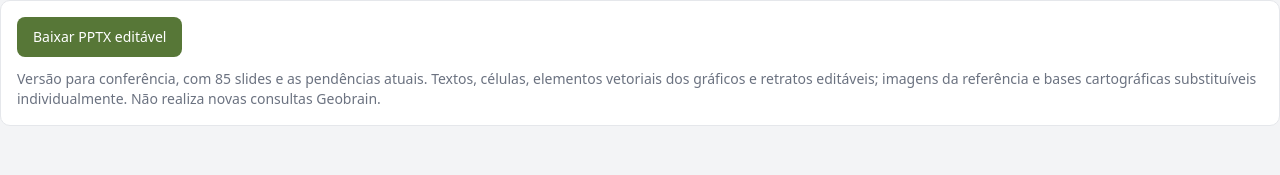
Test: SP — estados da exportação › apresenta erro recuperável e gera85posições ao tentar novamente
Click the button "Baixar PPTX editável": coordinates (100, 37) [17,17,182,57]
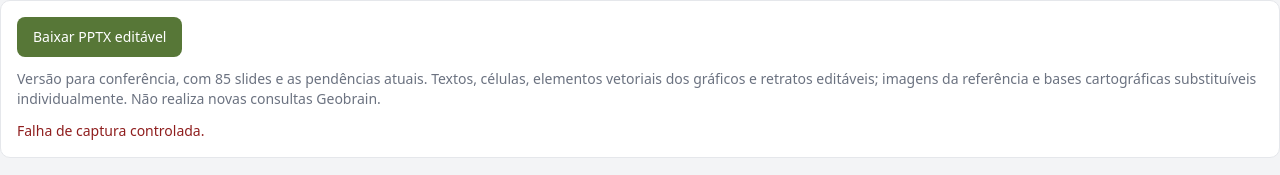
Expected: the message reads "Falha de captura controlada.", [17,121,204,140]
Click the button "Baixar PPTX editável": coordinates (100, 37) [17,17,182,57]
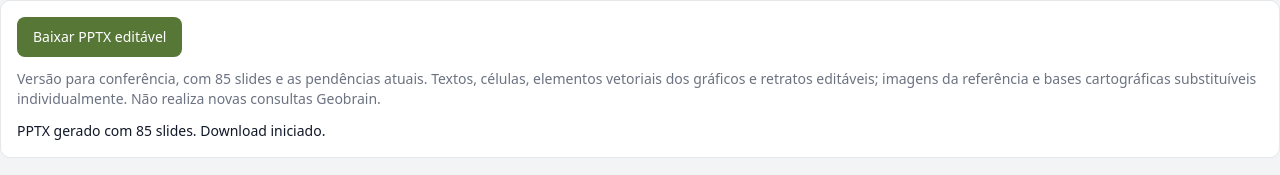
Expected: the text "PPTX gerado com 85 slides. Download iniciado." is shown, [17,121,325,140]
